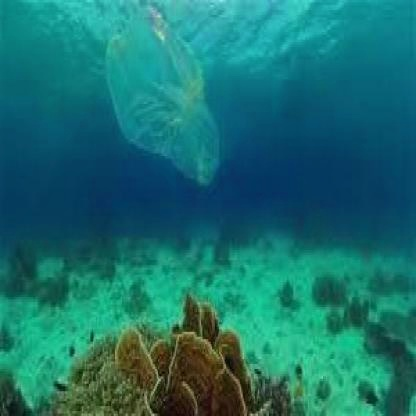pbag: (106, 7, 220, 188)
